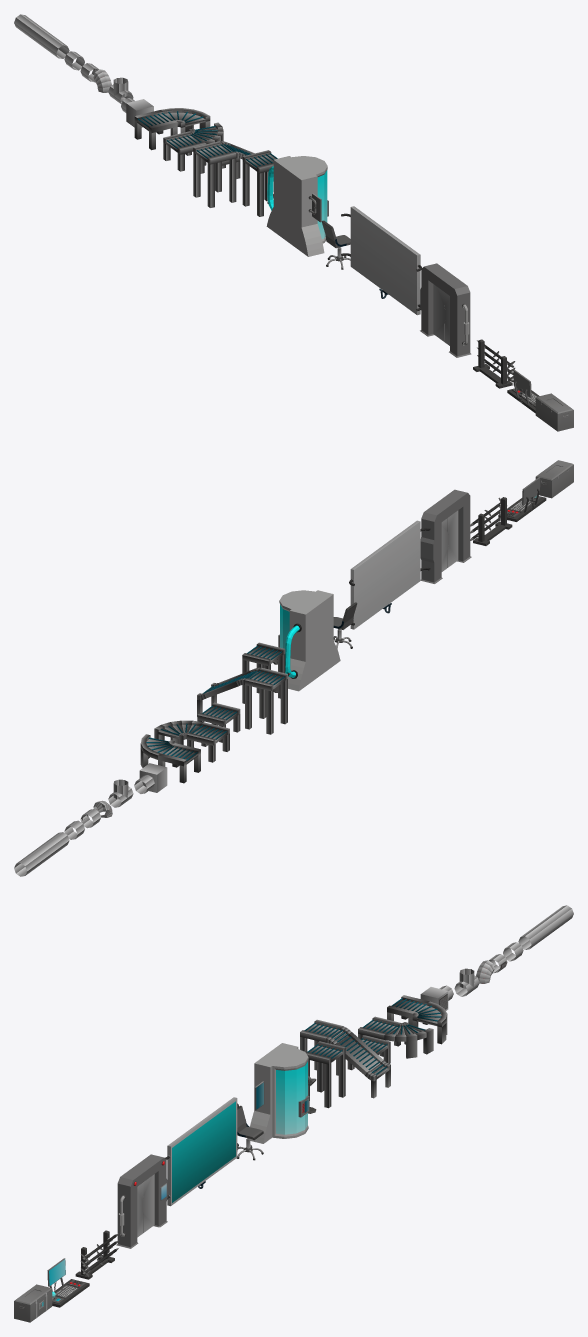
File: médios.fbx
The picture shows the model from 3 angles, top to bottom: view 1: azimuth 30°, elevation 25°; view 2: azimuth 150°, elevation 25°; view 3: azimuth 330°, elevation 25°; orthographic projection.
Visible parts, largest first — view 1: Capsula, Tela, Porta, Esteira 5, Esteira 3, Esteira 4, Esteira 2, Caixa, Misseis, Duto 4, Computador, Cadeira (+1 smaller); view 2: Capsula, Tela, Porta, Esteira 5, Esteira 4, Esteira 3, Esteira 2, Misseis, Caixa, Duto 4, Computador, Esteira 1 (+1 smaller); view 3: Capsula, Tela, Porta, Esteira 5, Esteira 4, Esteira 2, Esteira 3, Caixa, Computador, Duto 4, Misseis, Cadeira.
Boxes of the visible parts, x1,y1,x2,y2 form: Capsula: (266,156,328,256); Tela: (341,206,421,315); Porta: (420,263,471,357); Esteira 5: (193,141,254,207); Esteira 3: (134,108,210,150); Esteira 4: (163,122,223,171); Esteira 2: (242,150,277,216); Caixa: (535,393,573,431); Misseis: (473,339,515,388); Duto 4: (14,14,69,58); Computador: (507,369,539,413); Cadeira: (322,220,350,269); Capsula: (278,590,340,691); Tela: (349,520,430,629); Porta: (420,489,471,583); Esteira 5: (197,667,287,734); Esteira 4: (154,720,229,762); Esteira 3: (140,734,200,783); Esteira 2: (242,642,285,703); Misseis: (470,497,512,545); Caixa: (535,460,573,498); Duto 4: (14,832,69,876); Computador: (498,477,546,521); Esteira 1: (197,702,240,742); Capsula: (250,1043,309,1143); Tela: (164,1097,238,1206); Porta: (116,1154,167,1248); Esteira 5: (300,1019,390,1098); Esteira 4: (358,1016,433,1058); Esteira 2: (305,1041,345,1108); Esteira 3: (387,995,447,1044); Caixa: (14,1284,52,1322); Computador: (47,1258,89,1307); Duto 4: (518,905,573,949); Misseis: (75,1230,118,1279); Cadeira: (236,1105,263,1160).
Size of the model in its own units: 1121 by 1057 by 14279.
